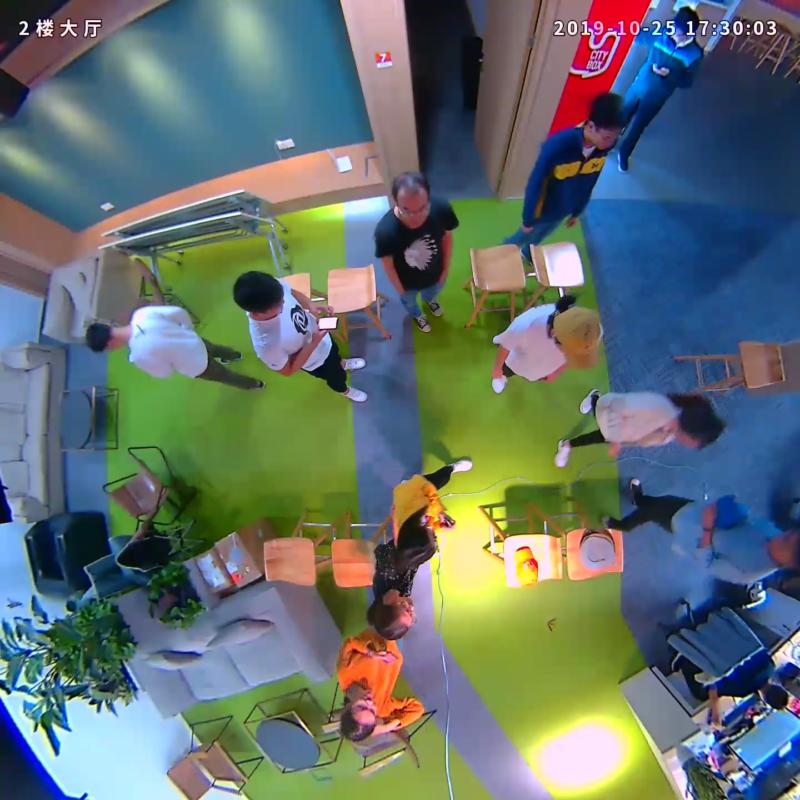head: (550, 304, 602, 370), (233, 268, 285, 318), (586, 92, 626, 151), (391, 171, 431, 229), (677, 403, 725, 449), (340, 690, 378, 744), (373, 596, 415, 640), (396, 522, 437, 567), (765, 527, 800, 569), (85, 321, 125, 352), (669, 6, 699, 44)
